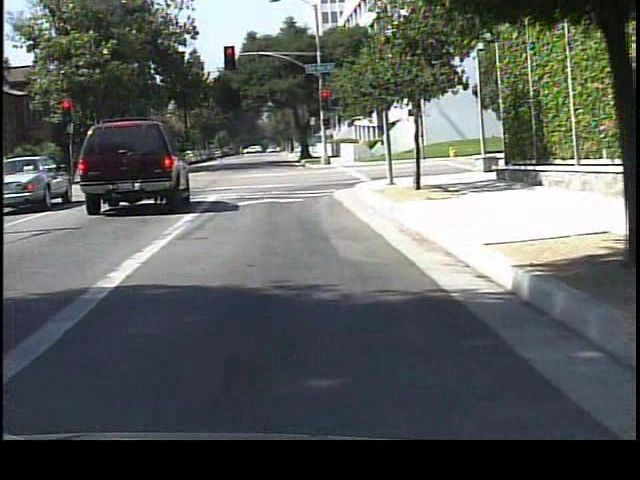person: (376, 132, 394, 167)
